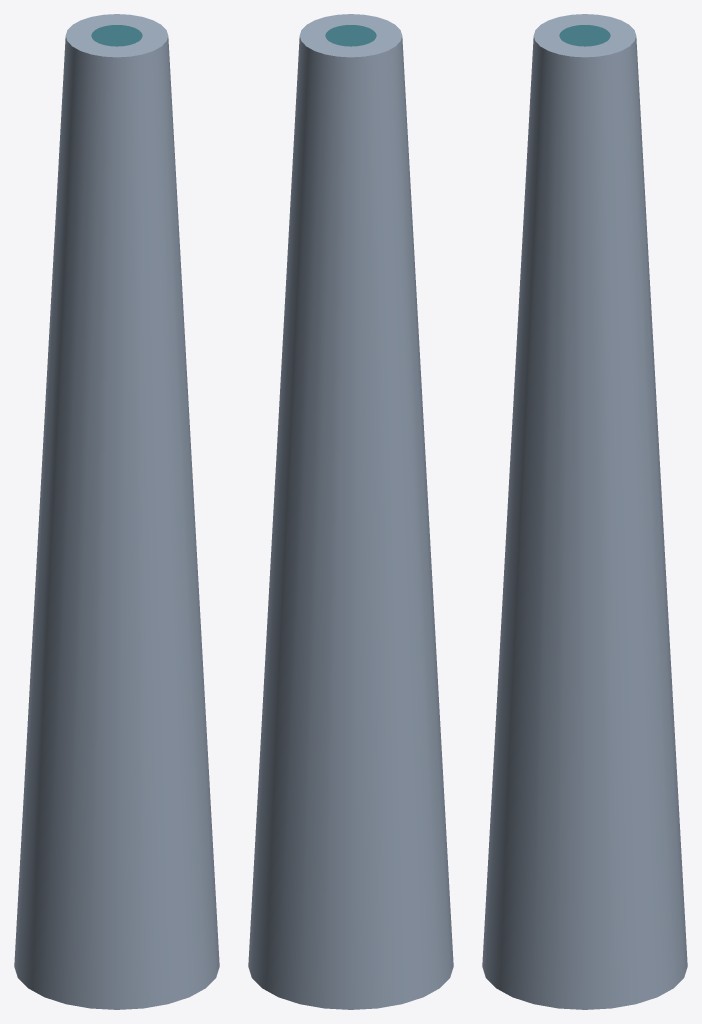
Rendered from chimney.glb.
The picture shows the model from 3 angles, left to right: view 1: azimuth 30°, elevation 25°; view 2: azimuth 150°, elevation 25°; view 3: azimuth 270°, elevation 25°; orthographic projection.
Visible parts, largest first — view 1: chimney; view 2: chimney; view 3: chimney.
Part boxes in pixels (left/top/right/bottom): chimney: left=14, top=14, right=219, bottom=1009; chimney: left=248, top=14, right=453, bottom=1009; chimney: left=482, top=14, right=687, bottom=1009.
Size of the model in its own units: 0.4 by 2 by 0.4.
